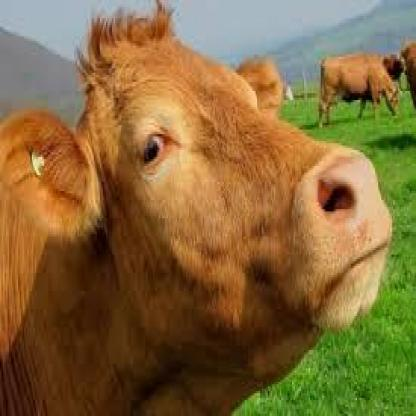cow: (0, 20, 392, 414), (318, 53, 401, 128), (402, 37, 416, 122)
